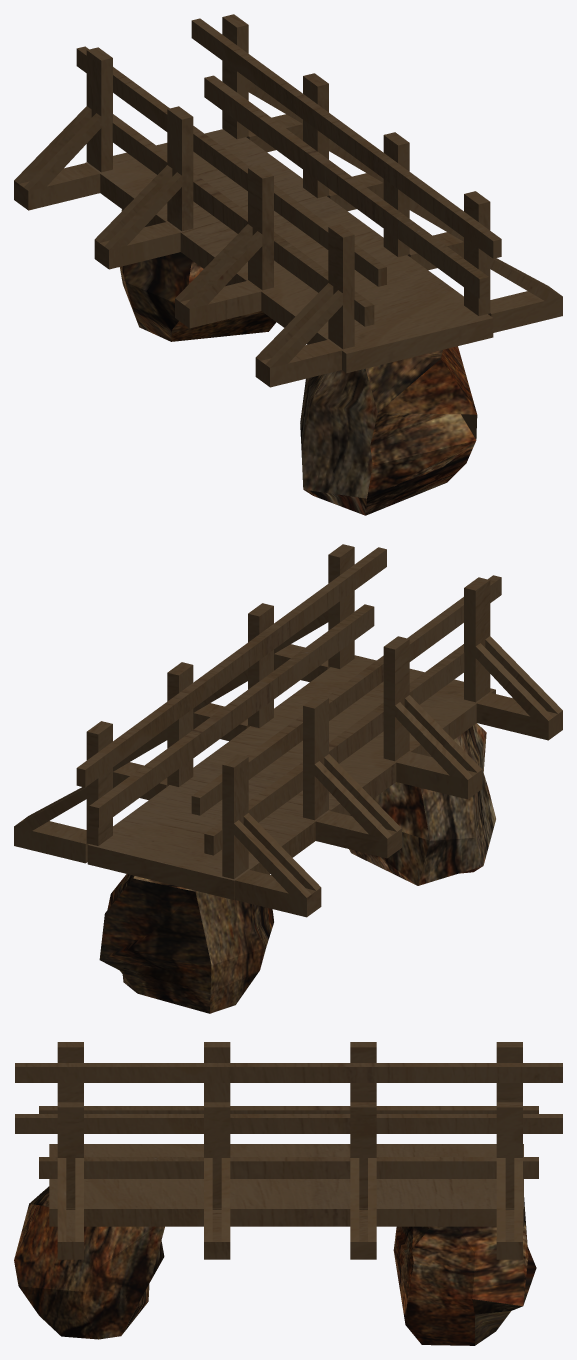
File: model_intro_mountainBridge.fbx
The picture shows the model from 3 angles, top to bottom: view 1: azimuth 30°, elevation 25°; view 2: azimuth 150°, elevation 25°; view 3: azimuth 270°, elevation 25°; orthographic projection. The views are drawn at different scales.
Visible parts, largest first — view 1: Icosphere; view 2: Icosphere; view 3: Icosphere.
Boxes of the visible parts, x1,y1,x2,y2 form: Icosphere: (14,14,562,515); Icosphere: (14,544,562,1013); Icosphere: (14,1042,562,1345).
Bounding box in the file's own units: 6.3 × 5.71 × 11.25.
